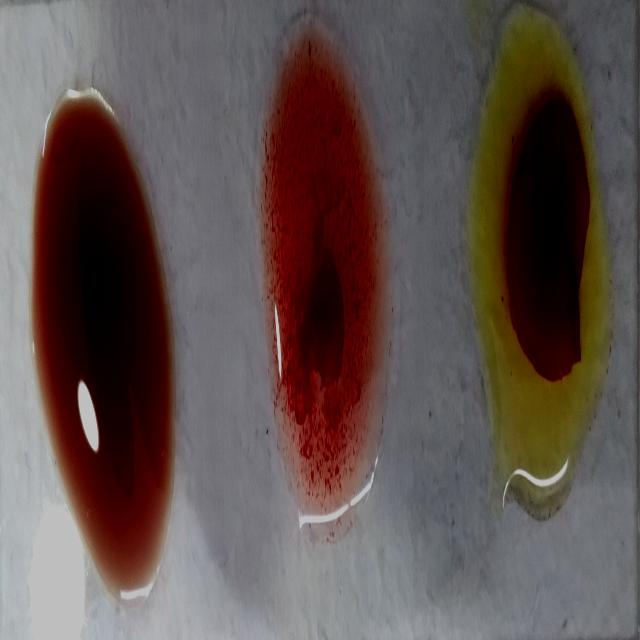B: (480, 6, 600, 502)
D: (270, 26, 392, 502)
